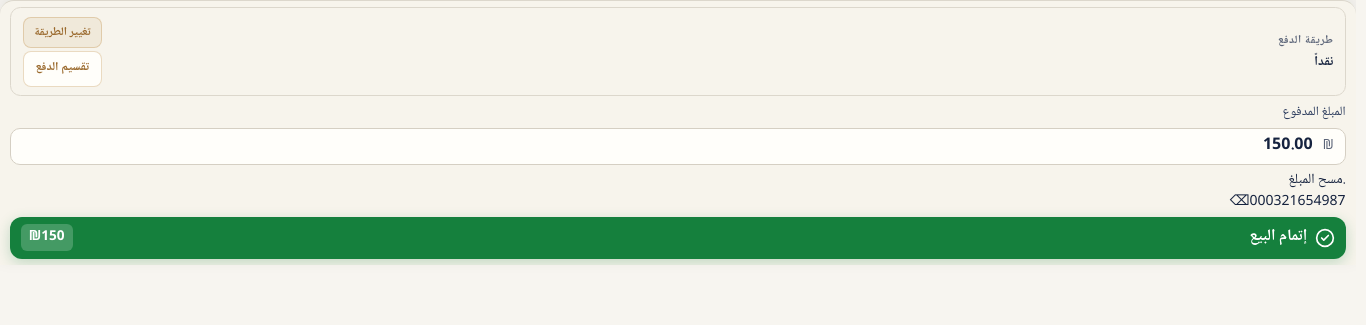
Scenario: AdvancedPaymentPanel numeric keypad › shows the customer change when cash received exceeds the invoice total
Expected: the field labelled "المبلغ المدفوع" holds "150.00", [10,128,1346,165]
Click the button "مسح المبلغ".
click(1316, 181)  # box [1288,170,1343,192]
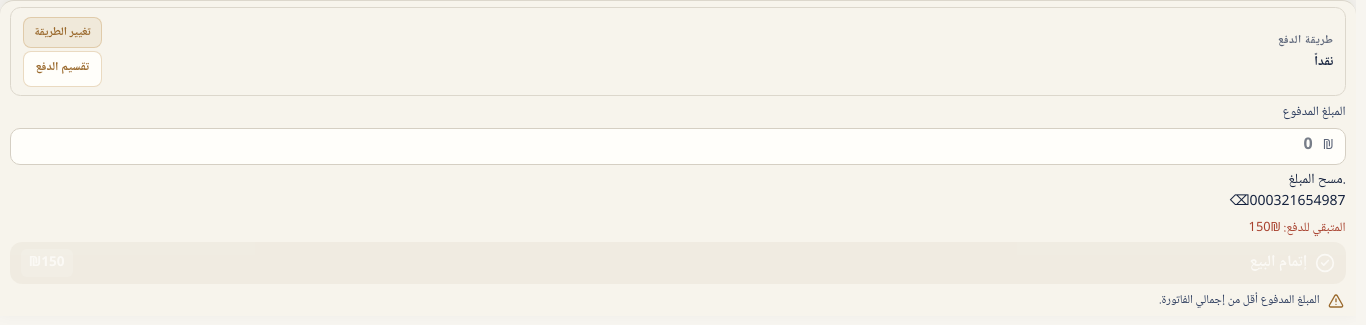
Click the button "2".
click(1286, 203)  # box [1282,192,1290,214]
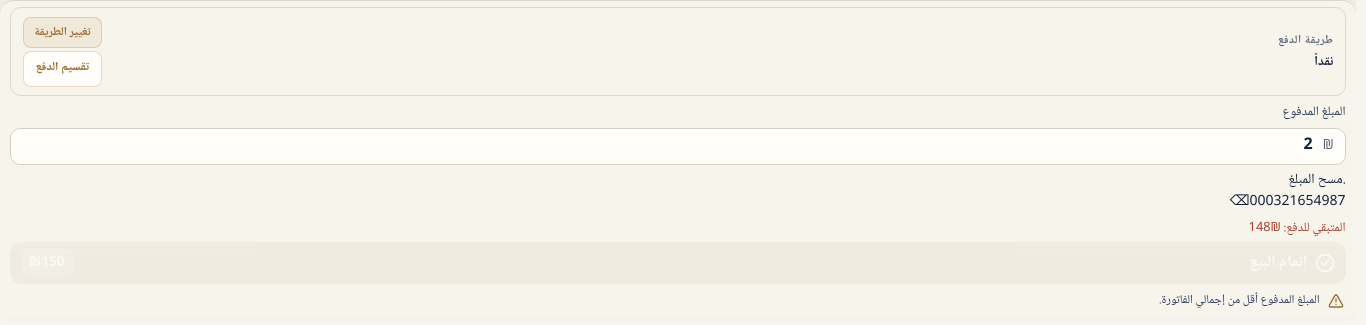
Click the button "0".
click(1253, 203)  # box [1249,192,1257,214]
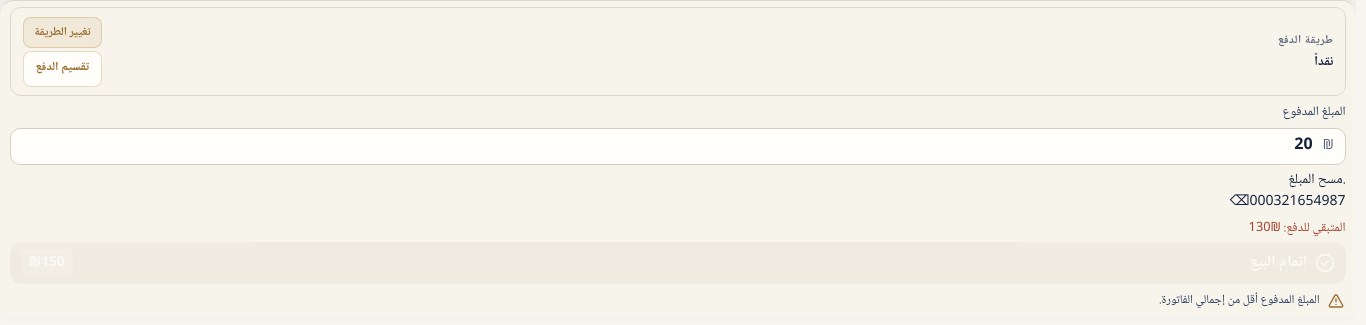
Click the button "0".
click(1253, 203)  # box [1249,192,1257,214]
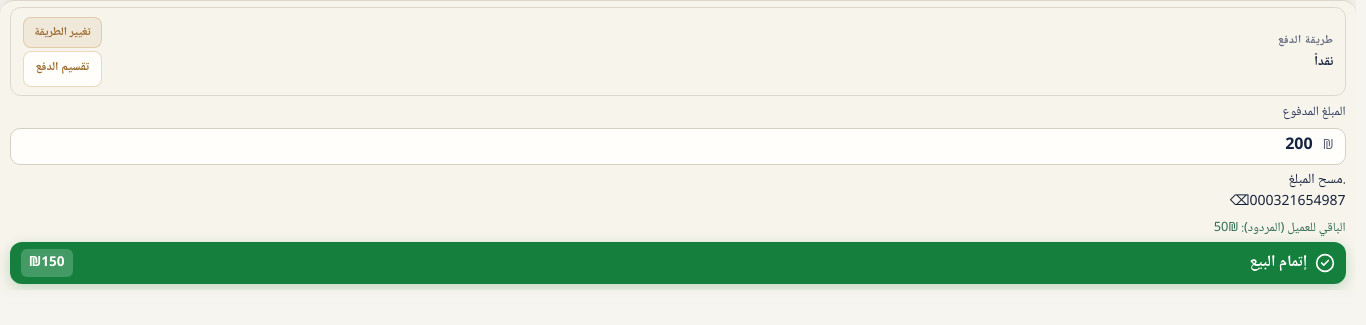
Result: the text "الباقي للعميل (المردود): ₪50" is shown at [1214,217,1346,239]
Result: the button "إتمام البيع ₪150" is enabled at [10,242,1346,284]
